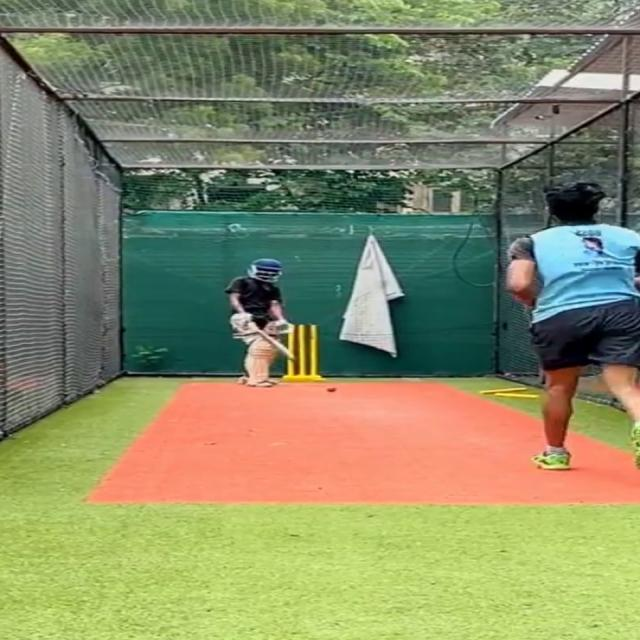ball: (325, 385, 340, 393)
stump: (286, 323, 322, 383)
